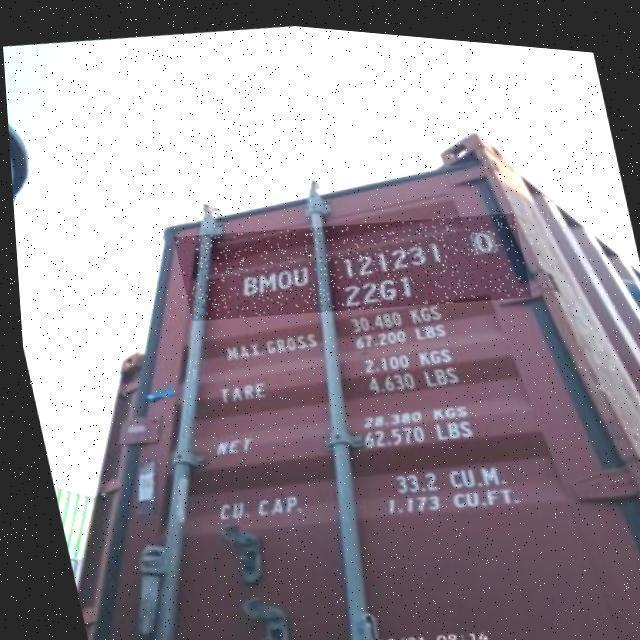ISO: (342, 269, 418, 311)
container_number: (245, 222, 495, 298)
